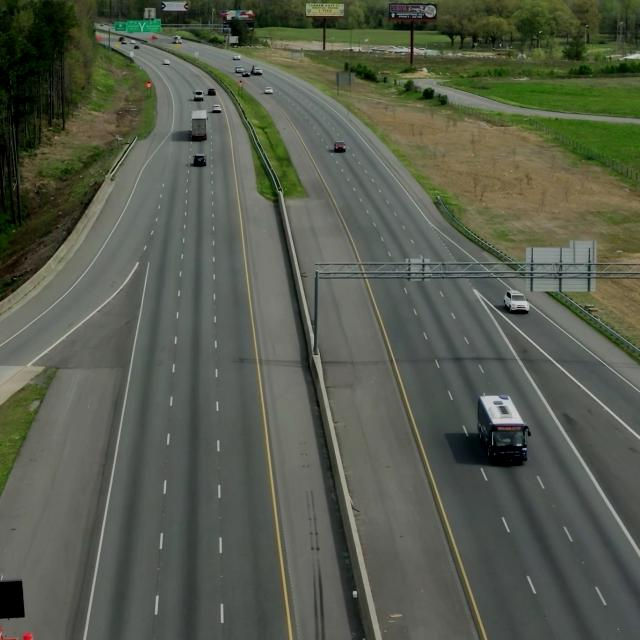Vehicle: (473, 389, 535, 464), (504, 284, 530, 316)
